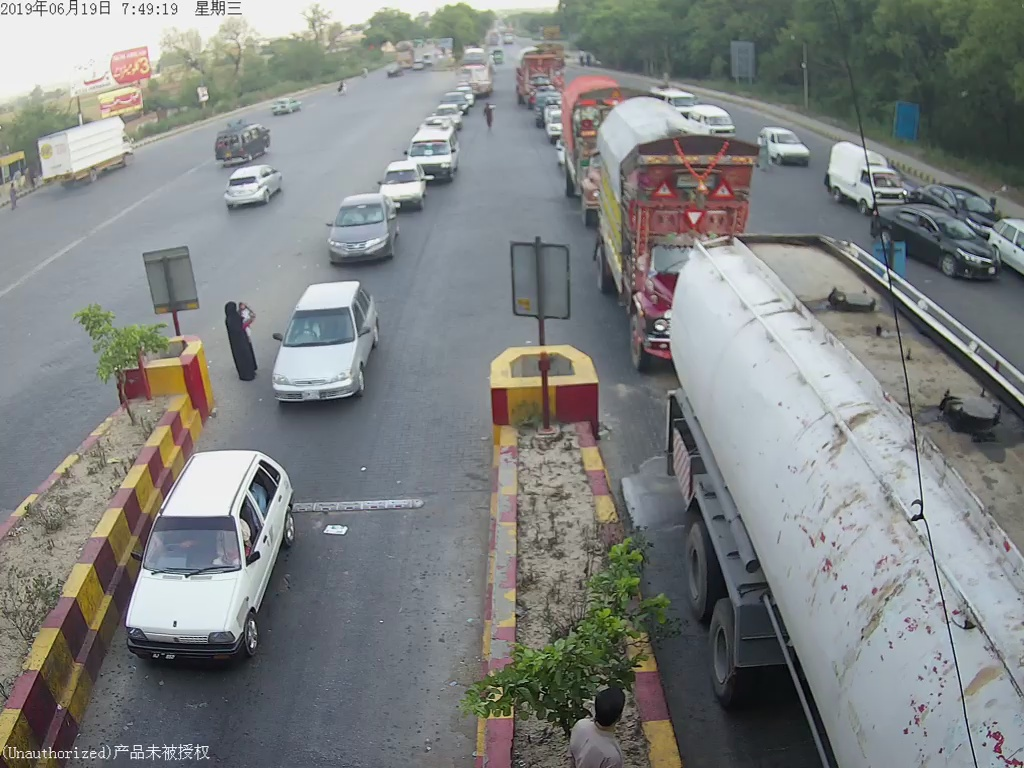Cat-1: (116, 437, 297, 669), (268, 277, 385, 402), (328, 196, 398, 265), (376, 160, 426, 209)
Cat-4: (595, 90, 750, 383), (553, 74, 637, 223)
